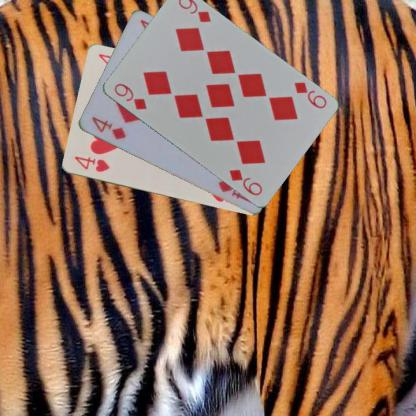4d: (89, 114, 127, 141)
4h: (72, 153, 111, 174)
9d: (111, 80, 148, 112), (291, 80, 328, 110)
